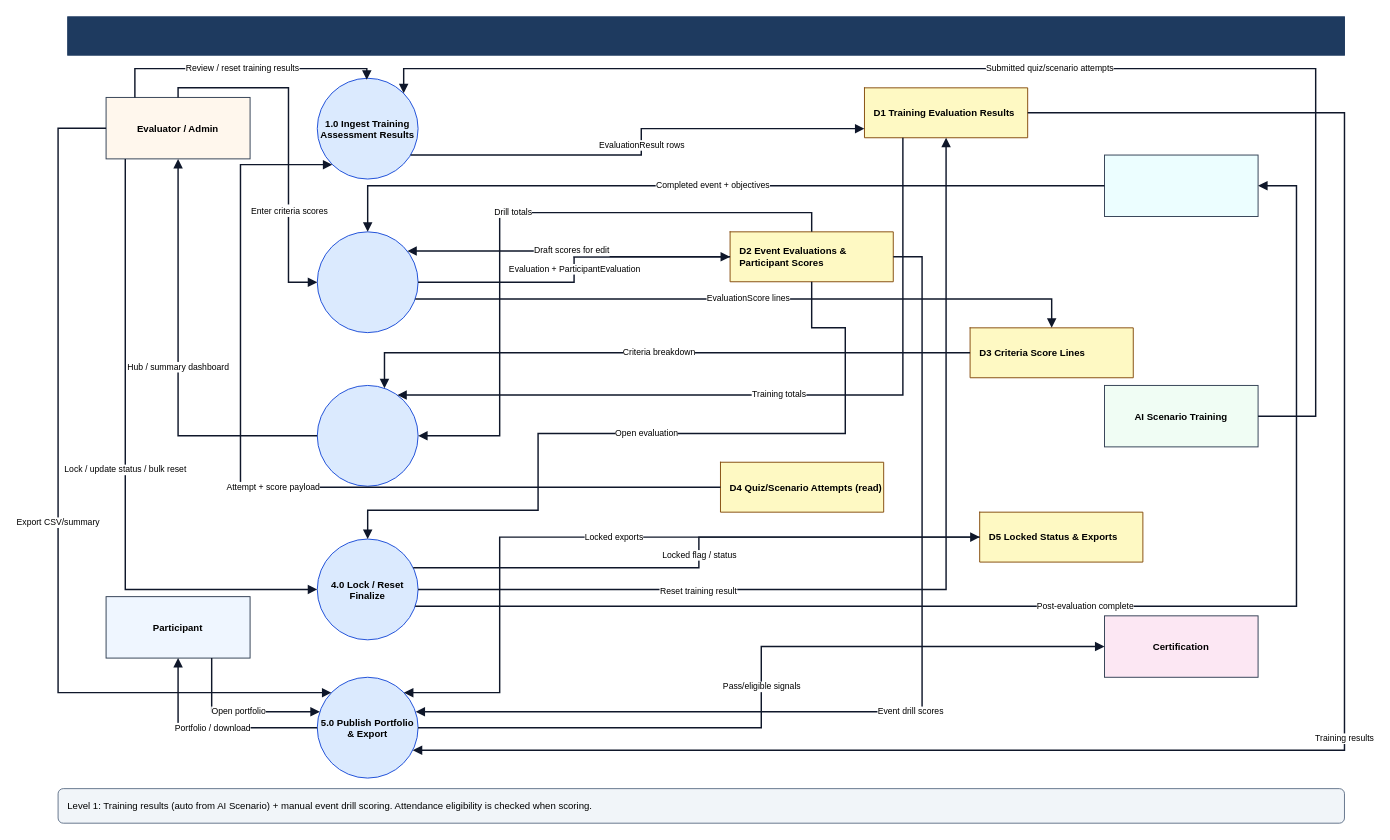
Some shapes in this 1390 by 840 pixel diagram are drawn without their labels. The centre of each missing label's shape, as x and y in pixels:
2.0 Score Simulation Event Drill: the point at 367,282
3.0 Aggregate & Summarize: the point at 367,435
DFD Level 1 — Evaluation & Scoring System (Decomposition): the point at 705,35
Simulation Event Planning: the point at 1181,185
